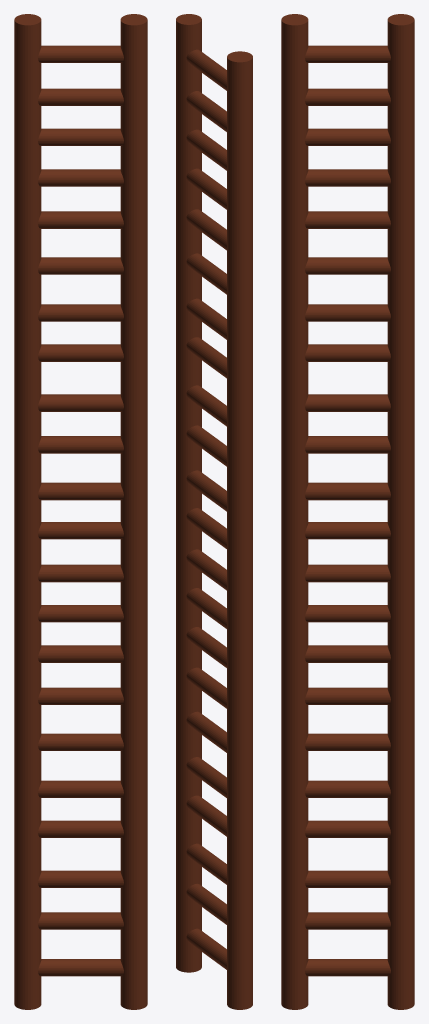
Rendered from Ladder.fbx.
3 views of the same model, side by side, from view 1: azimuth 90°, elevation 25°; view 2: azimuth 210°, elevation 25°; view 3: azimuth 270°, elevation 25° (orthographic). The views are drawn at different scales.
Visible parts, largest first — view 1: Ladder.001, Ladder; view 2: Ladder, Ladder.001; view 3: Ladder.001, Ladder.
Part boxes in pixels (x1,y1,x2,y2): Ladder.001: (14,14,147,533); Ladder: (14,496,147,1009); Ladder: (176,481,252,1009); Ladder.001: (176,14,252,548); Ladder.001: (281,14,414,533); Ladder: (281,496,414,1009).
Bounding box in the file's own units: 99.54 × 4016 × 492.
